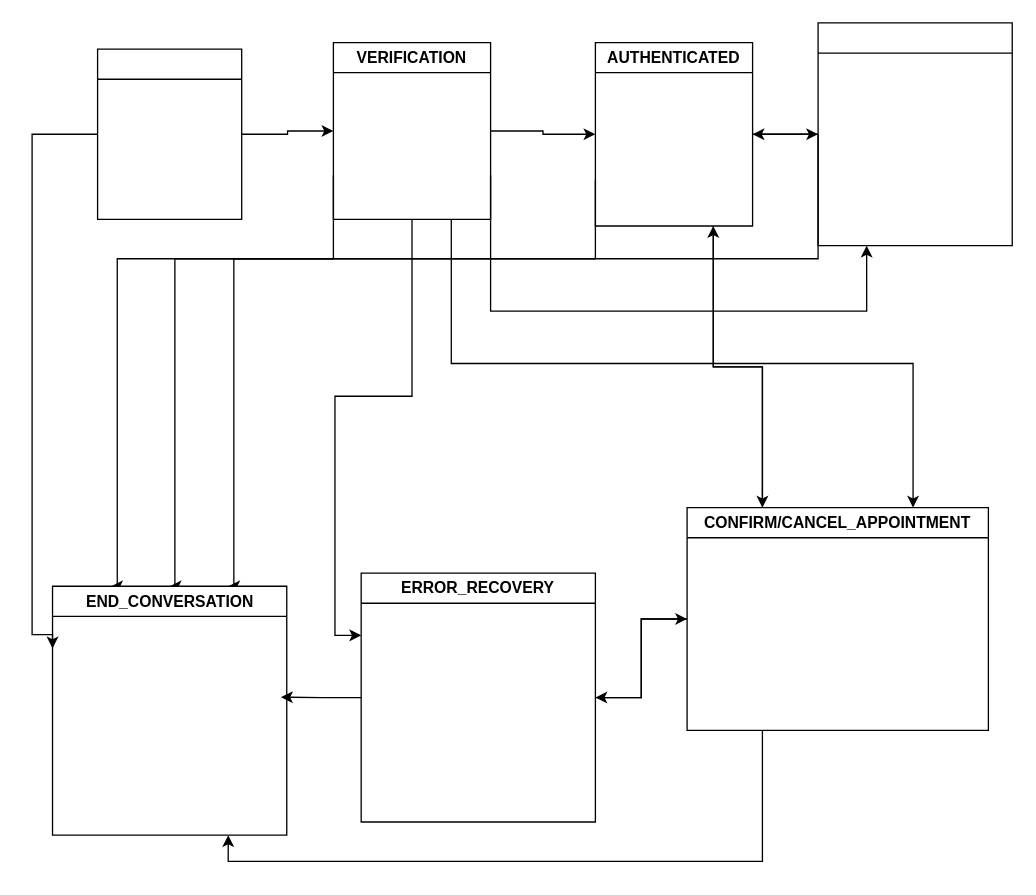
The diagram is 1036 pixels wide and 895 high, and some of its shapes have lost their labels. Here are the shapes that lost their labels. From the top down, the centre of each, then its label:
At point (169, 133): "INITIAL".
At point (914, 134): "LIST_APPOINTMENTS".
